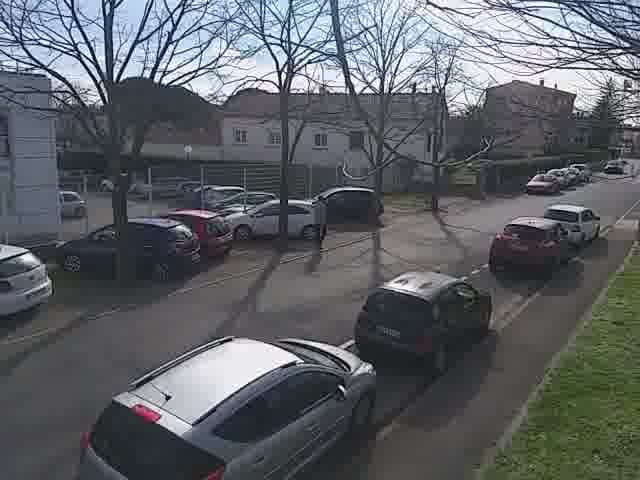persona: (301, 189, 334, 256)
